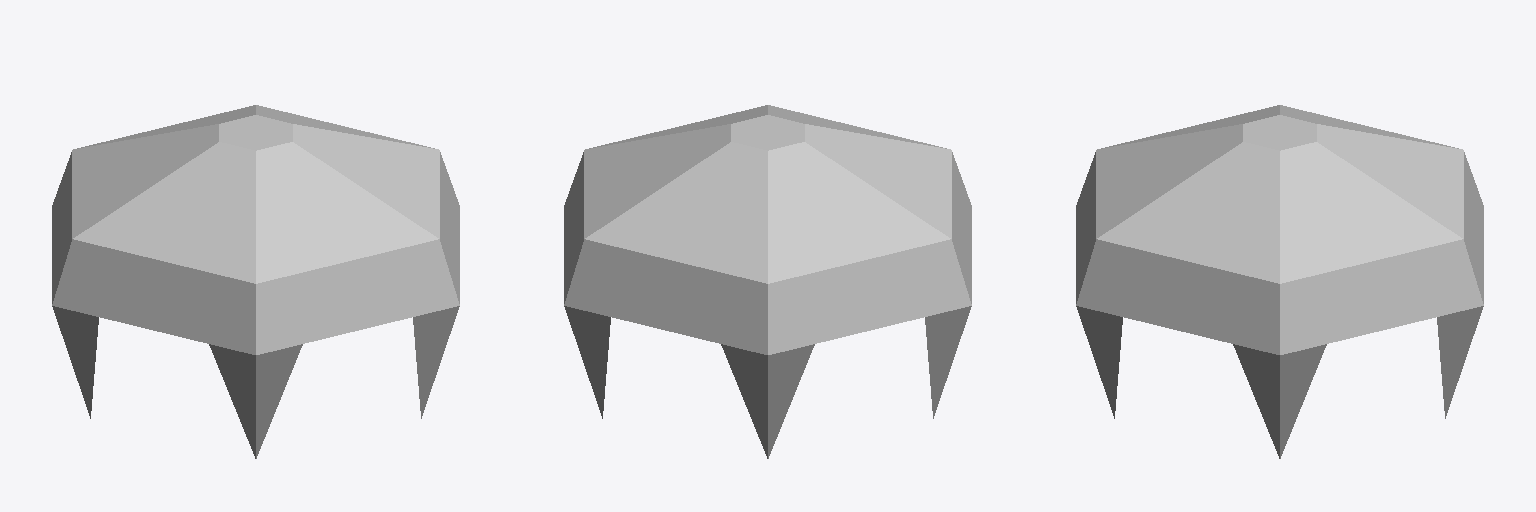
Rendered from adv_flying_enemy.obj.
The picture shows the model from 3 angles: view 1: azimuth 30°, elevation 25°; view 2: azimuth 150°, elevation 25°; view 3: azimuth 270°, elevation 25°; orthographic projection.
Parts seen in each view (by area): view 1: Mesh1 Model; view 2: Mesh1 Model; view 3: Mesh1 Model.
Boxes of the visible parts, <box> form: Mesh1 Model: <box>52,105,459,458</box>; Mesh1 Model: <box>564,105,971,458</box>; Mesh1 Model: <box>1076,105,1483,458</box>.
Size of the model in its own units: 6.93 by 4 by 6.